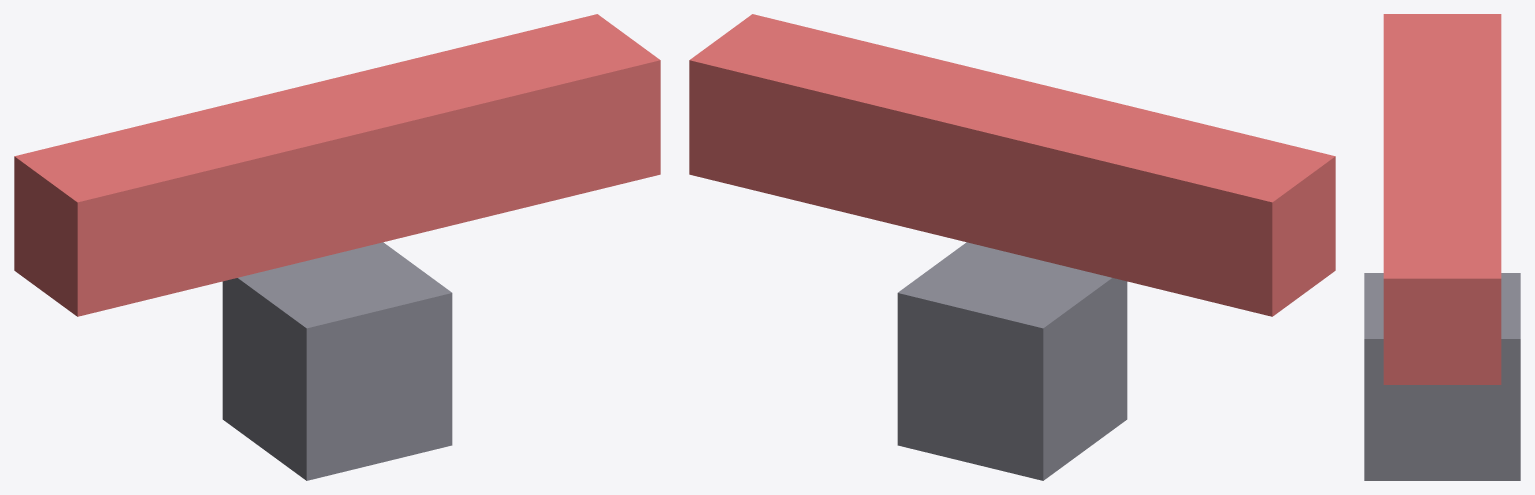
Rendered from fan.glb.
3 renders of one model, left to right at view 1: azimuth 30°, elevation 25°; view 2: azimuth 150°, elevation 25°; view 3: azimuth 270°, elevation 25°, orthographic. The views are drawn at different scales.
Parts seen in each view (by area): view 1: Blade, Hub; view 2: Blade, Hub; view 3: Blade, Hub.
Boxes of the visible parts, <box> form: Blade: <box>14,14,660,316</box>; Hub: <box>222,242,452,480</box>; Blade: <box>689,14,1335,316</box>; Hub: <box>897,242,1127,480</box>; Blade: <box>1383,14,1501,384</box>; Hub: <box>1364,273,1520,480</box>.
Size of the model in its own units: 1.6 by 0.85 by 0.4.
